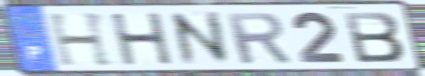2: (290, 9, 349, 66)
B: (341, 10, 408, 64)
H: (44, 11, 117, 68), (108, 11, 177, 67)
N: (166, 9, 236, 68)
R: (222, 11, 295, 66)
